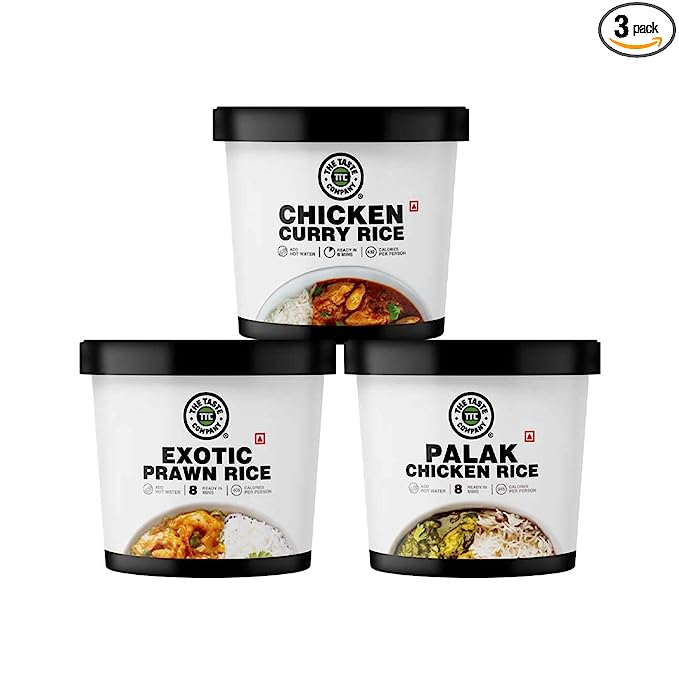non_veg: (245, 425, 277, 453), (404, 191, 426, 221), (519, 423, 542, 450)
